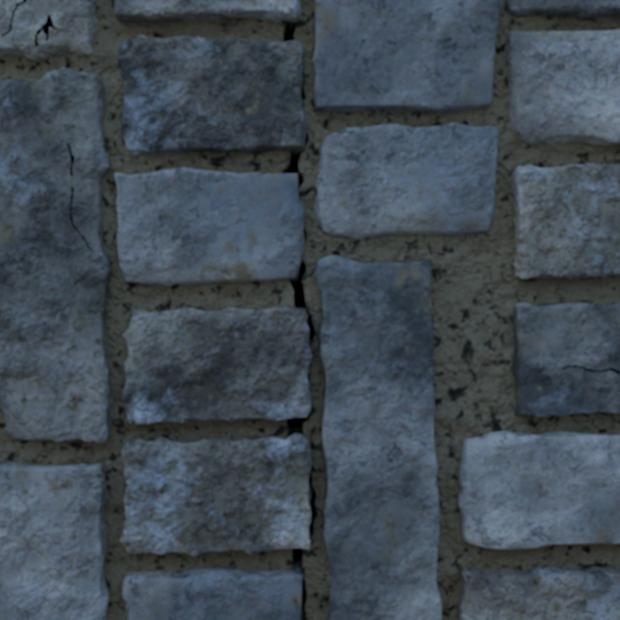brick: (315, 256, 440, 619), (0, 68, 112, 443), (121, 435, 311, 556), (118, 35, 306, 154), (122, 306, 311, 424), (115, 168, 303, 285), (313, 0, 499, 112), (315, 123, 497, 237), (459, 432, 619, 548), (0, 462, 108, 619), (505, 30, 619, 144), (511, 164, 619, 280), (514, 303, 619, 416), (123, 568, 300, 619), (458, 566, 619, 619), (0, 0, 96, 60), (114, 0, 300, 21), (506, 0, 619, 18), (0, 0, 20, 34)
crack: (289, 260, 315, 341), (290, 547, 306, 619), (0, 0, 26, 37), (282, 149, 304, 188), (307, 472, 317, 539), (286, 412, 310, 437), (561, 364, 619, 374), (282, 20, 297, 42), (302, 228, 306, 243), (304, 134, 308, 146), (301, 88, 305, 100)
